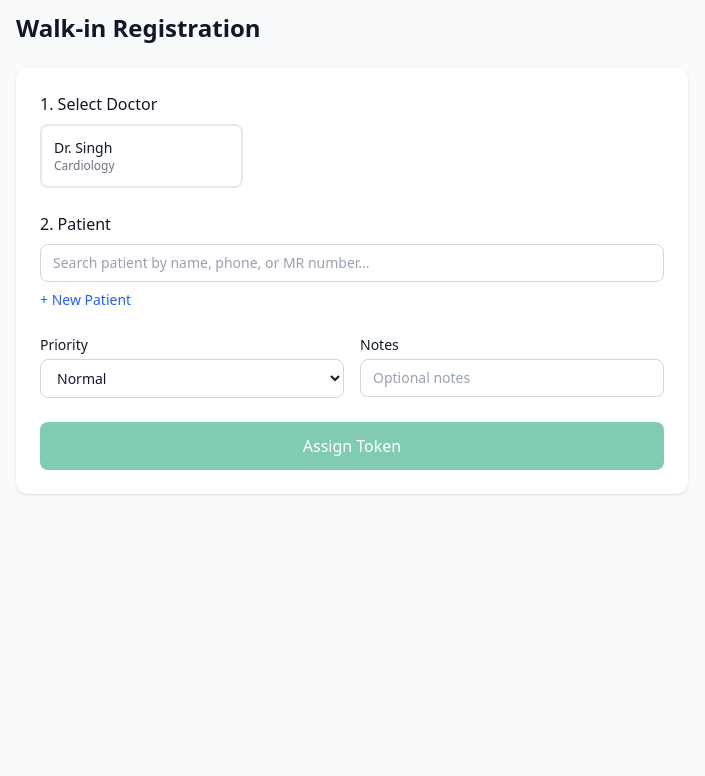
WalkInPage › Assign Token button is disabled until both a doctor and a patient (or +New) are set
This screenshot has width=705, height=776.
Expected: the button "Assign Token" is disabled, x1=40 y1=422 x2=664 y2=470
Step 1. Click the radio button labelled "Dr. Singh Cardiology" → (141, 156), box x1=40 y1=124 x2=243 y2=188
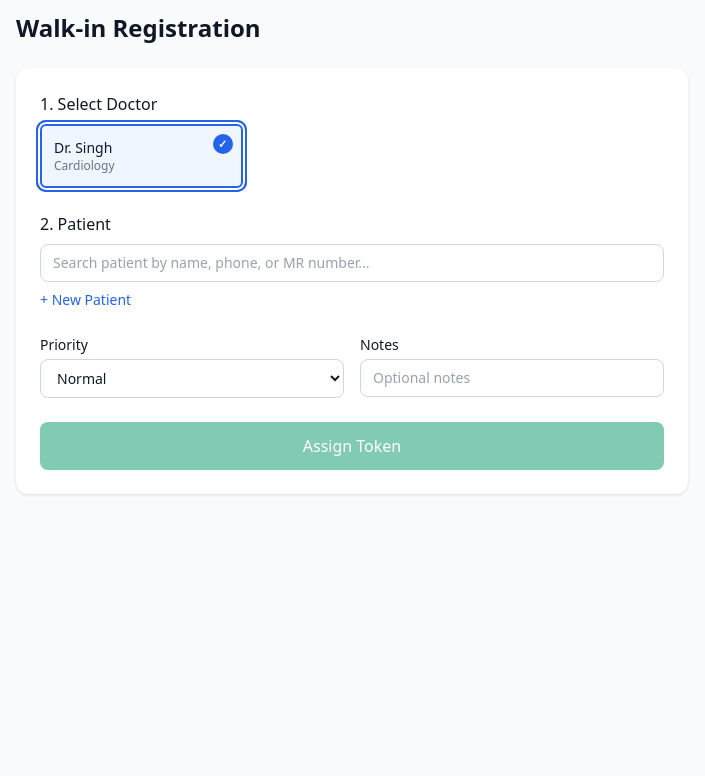
Expected: the button "Assign Token" is disabled, x1=40 y1=422 x2=664 y2=470
# Switch to + New Patient — now enabled.
Step 2. Click the button "+ New Patient" → (86, 300), box x1=40 y1=290 x2=131 y2=310
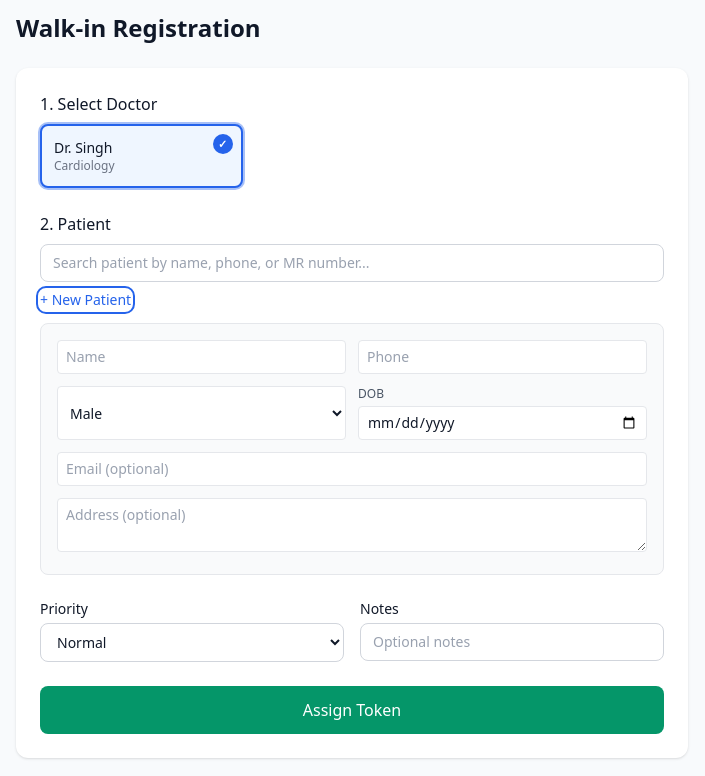
Now the button "Assign Token" is enabled, box x1=40 y1=686 x2=664 y2=734
